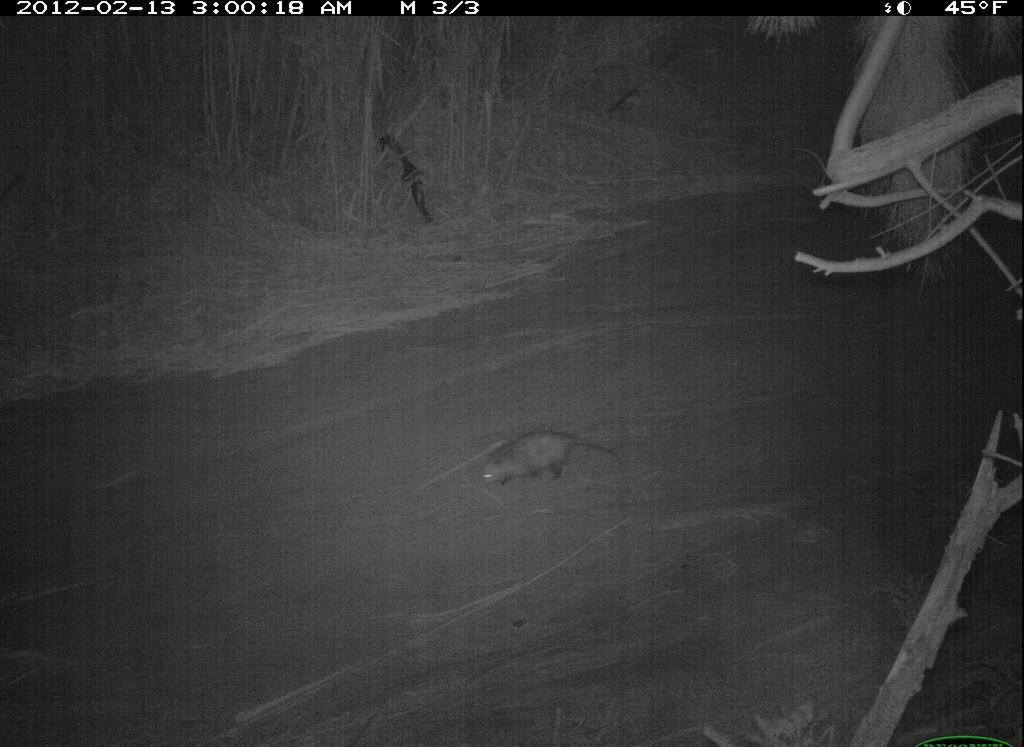opossum: (469, 427, 623, 489)
